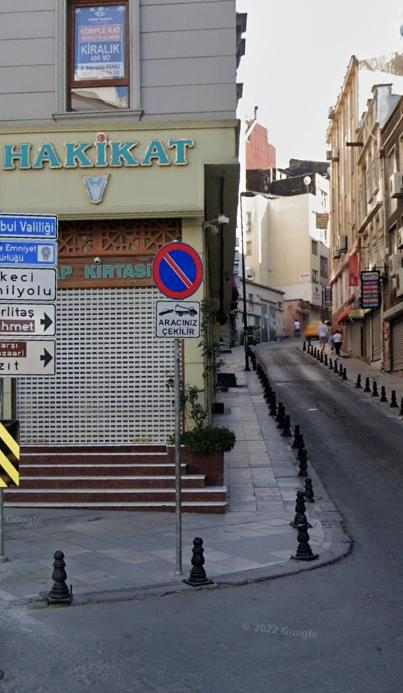nopark: (155, 245, 201, 295)
